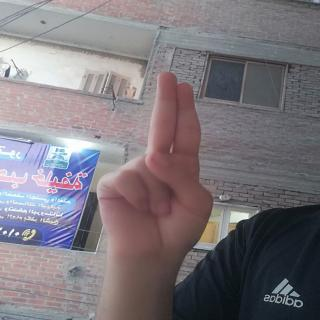TA: (90, 62, 219, 264)
